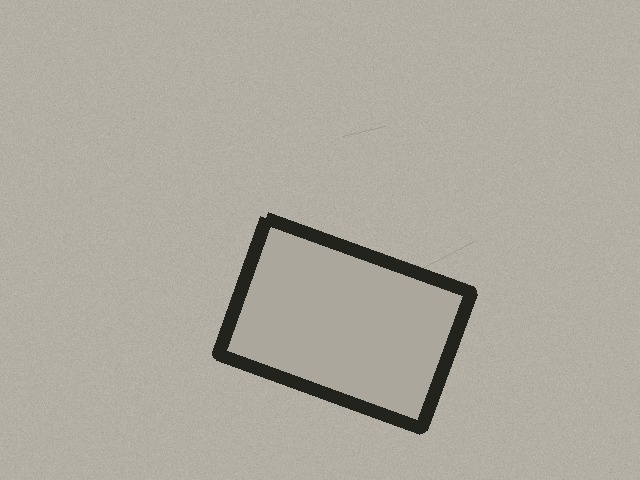parking_area: (218, 218, 471, 428)
